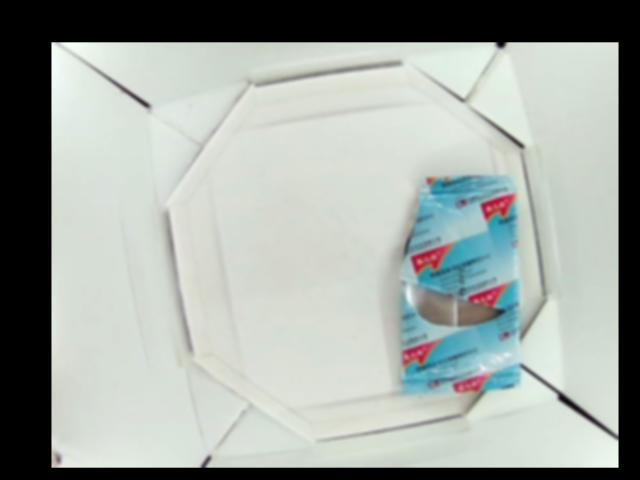Medicine: (400, 175, 518, 397)
